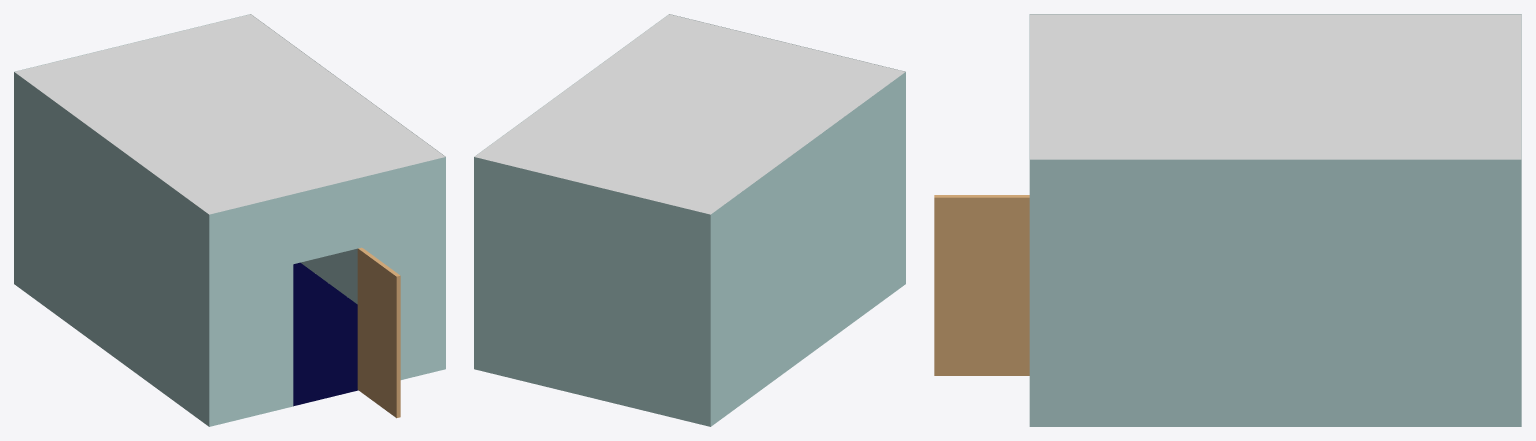
Rendered from DM room .glb.
The picture shows the model from 3 angles, left to right: view 1: azimuth 30°, elevation 25°; view 2: azimuth 150°, elevation 25°; view 3: azimuth 270°, elevation 25°; orthographic projection. The views are drawn at different scales.
Visible parts, largest first — view 1: Cube, Cube.001, Cube.003, Cube.002; view 2: Cube, Cube.001; view 3: Cube, Cube.001, Cube.002.
Boxes of the visible parts, left/top/right/bottom form: Cube: left=14, top=14, right=445, bottom=426; Cube.001: left=15, top=14, right=445, bottom=214; Cube.003: left=293, top=262, right=358, bottom=406; Cube.002: left=357, top=247, right=400, bottom=418; Cube: left=474, top=14, right=905, bottom=426; Cube.001: left=474, top=14, right=904, bottom=214; Cube: left=1029, top=14, right=1521, bottom=426; Cube.001: left=1030, top=14, right=1521, bottom=159; Cube.002: left=934, top=195, right=1029, bottom=375.
Bounding box in the file's own units: 3.5 × 3 × 5.97.
